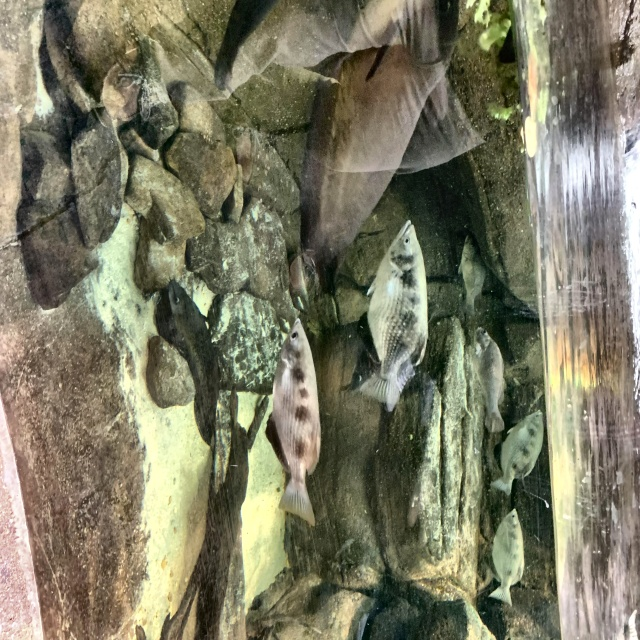fish: (356, 217, 430, 412), (268, 316, 323, 529), (490, 408, 545, 499), (487, 506, 526, 610), (470, 326, 506, 436)
